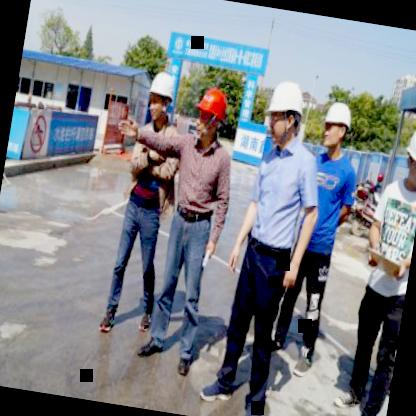helmet: (258, 76, 310, 146), (184, 83, 230, 145), (318, 98, 356, 153), (144, 70, 176, 124), (398, 113, 416, 195)
